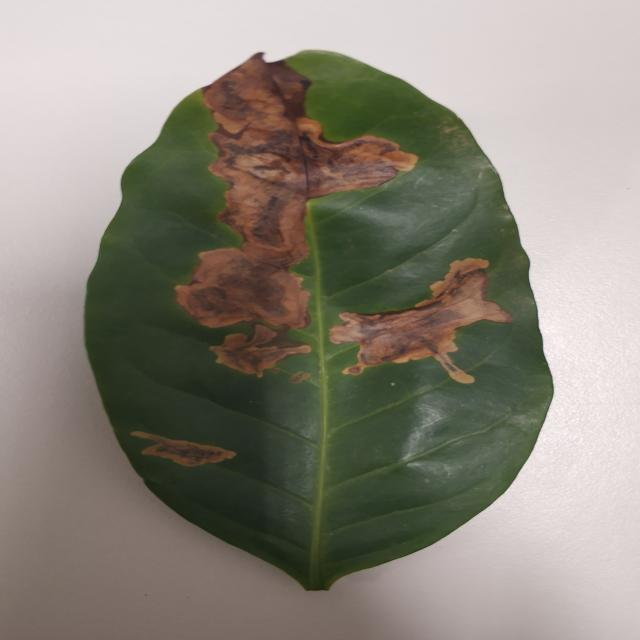Plaga-Minador: (82, 51, 555, 593)
